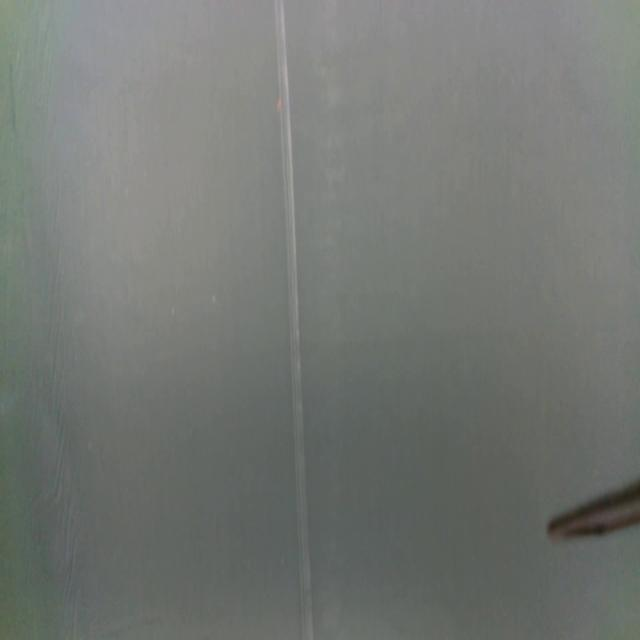crease: (274, 0, 312, 638)
